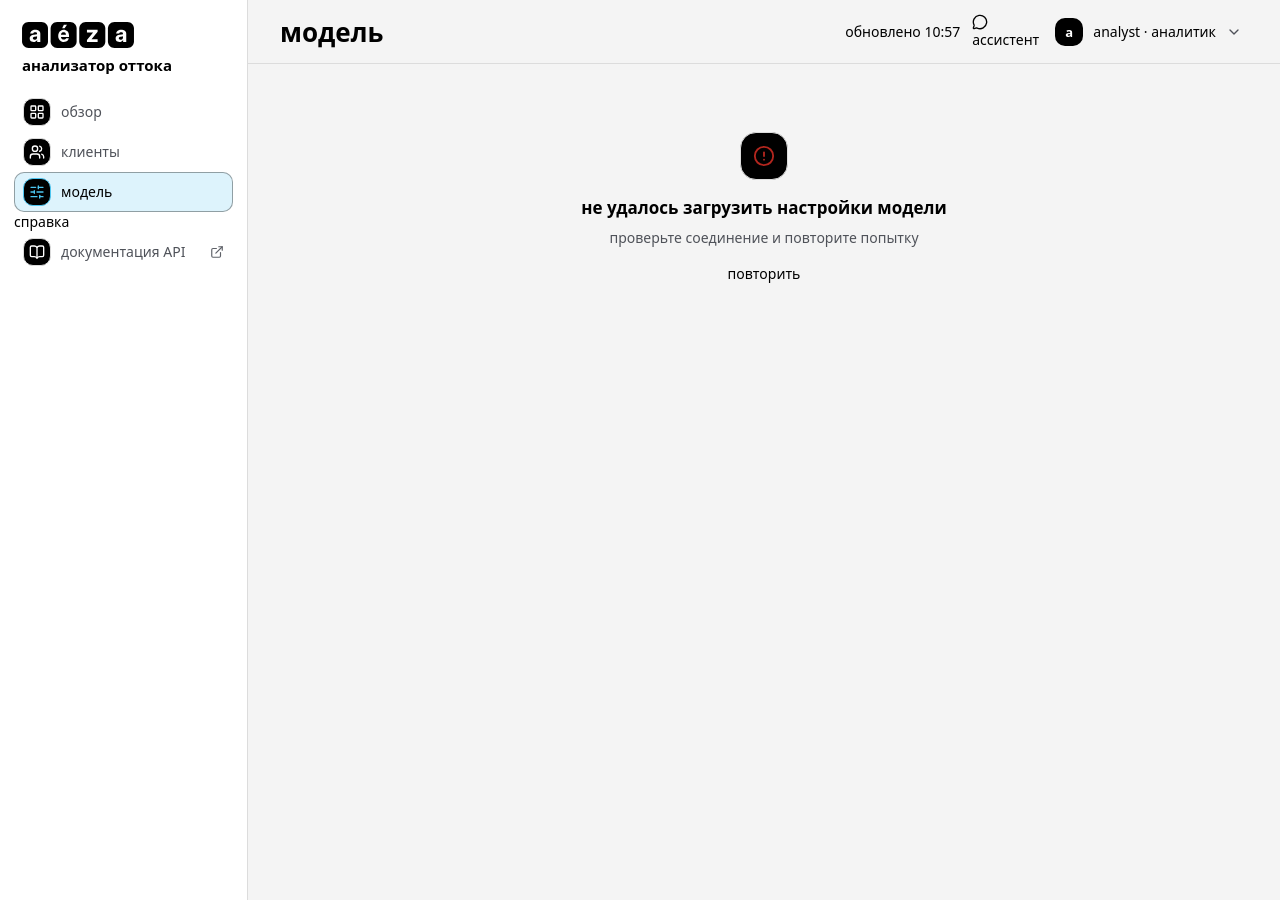
Test: assistant panel › explains rate limits and outages while the page keeps working
Step 1. Click the button "ассистент" → click(1006, 32), box [972,14,1039,50]
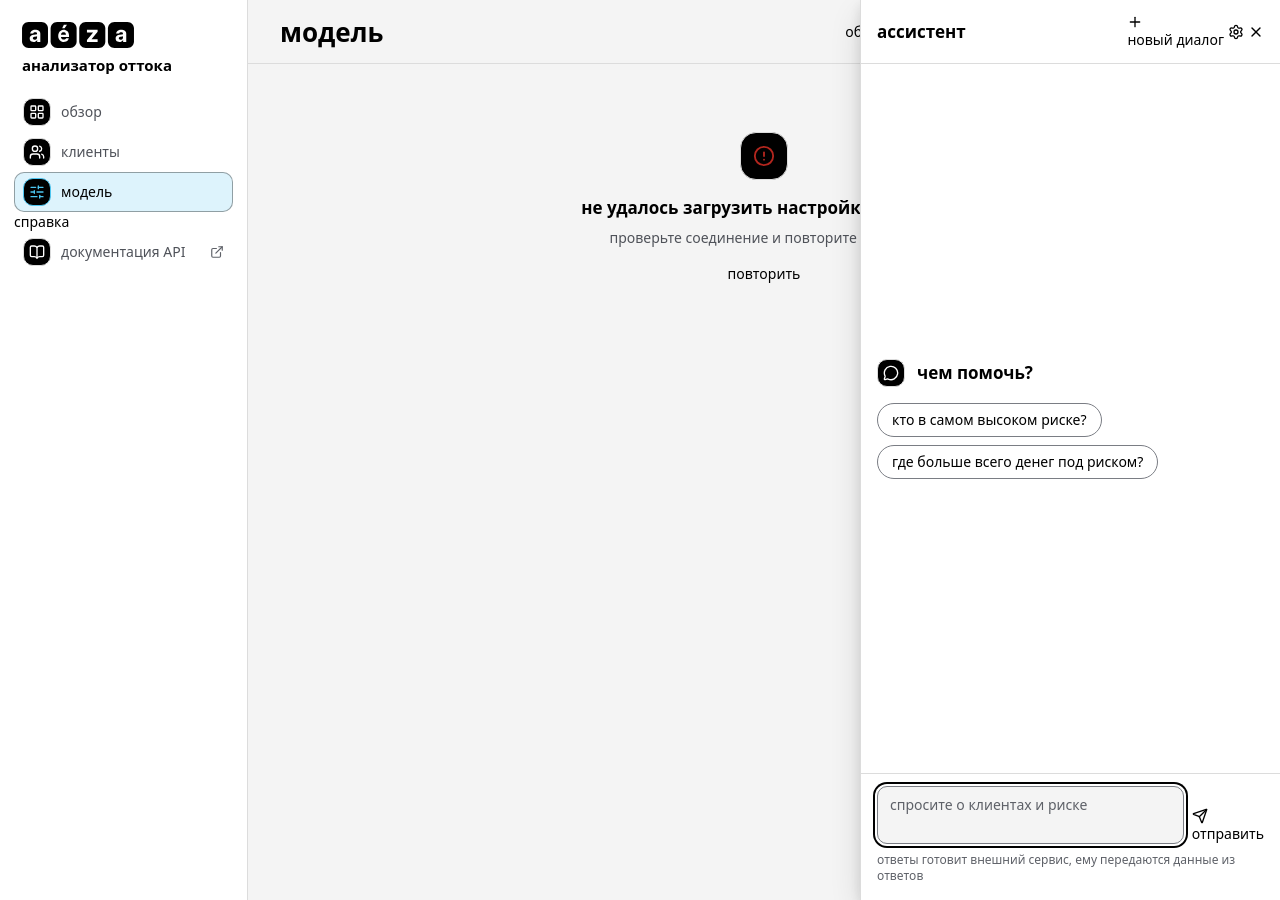
Step 2. Type "первый" into the text box named "вопрос ассистенту" → (1030, 815), box [877,786,1184,844]
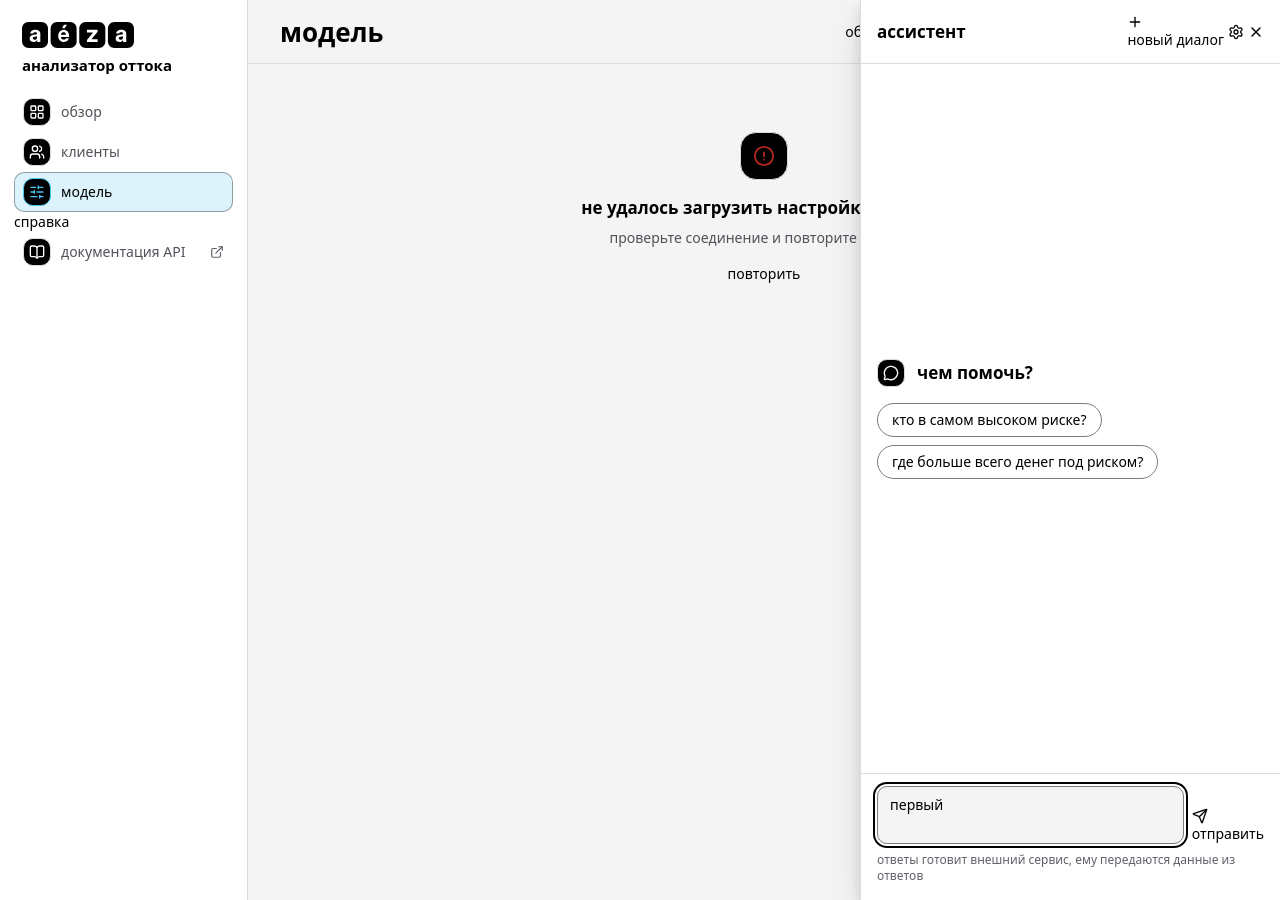
Step 3. Click the button "отправить" → click(1228, 826), box [1192,808,1264,844]
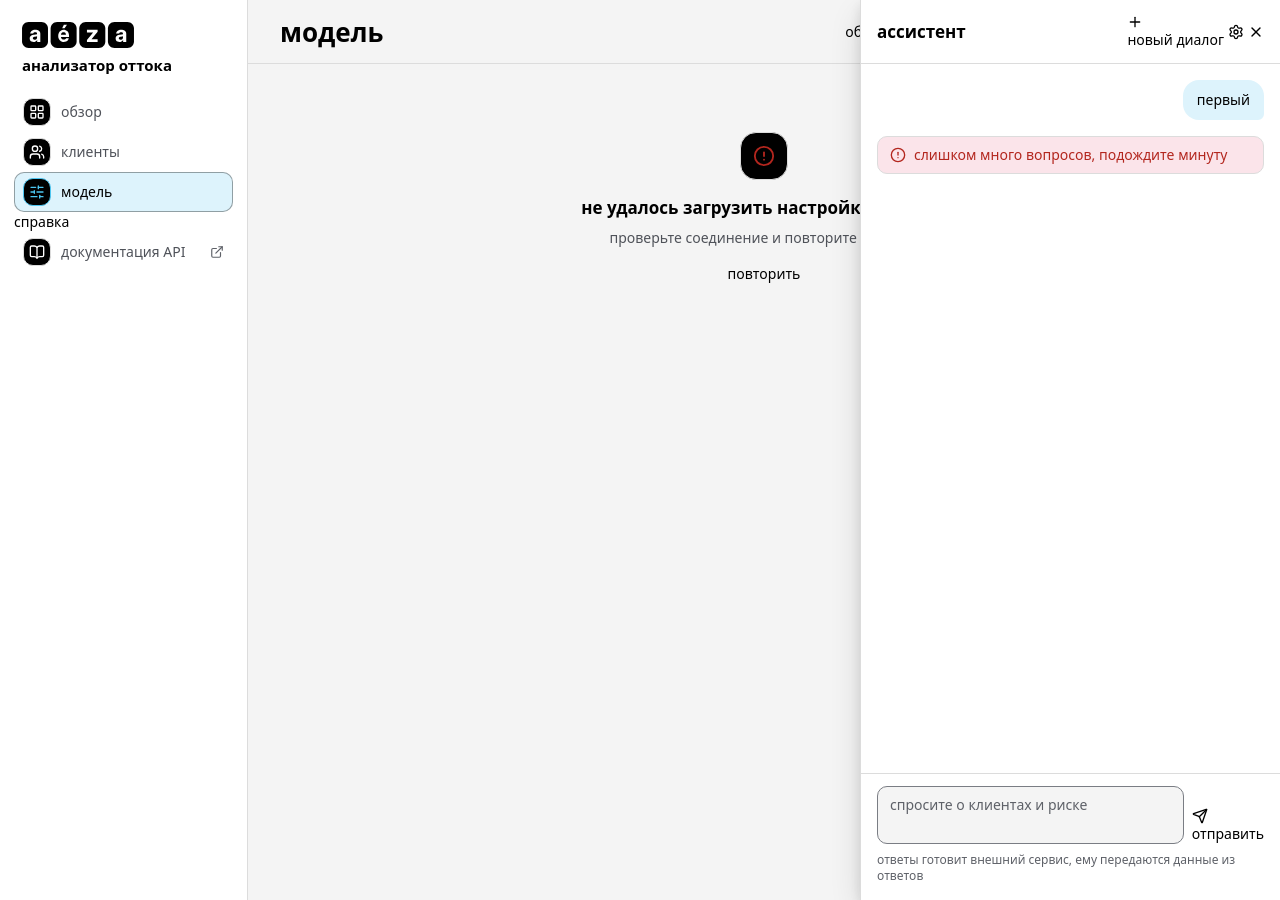
Result: the text "слишком много вопросов, подождите минуту" is shown at [877,136,1264,174]
Step 4. Type "второй" into the text box named "вопрос ассистенту" → (1030, 815), box [877,786,1184,844]
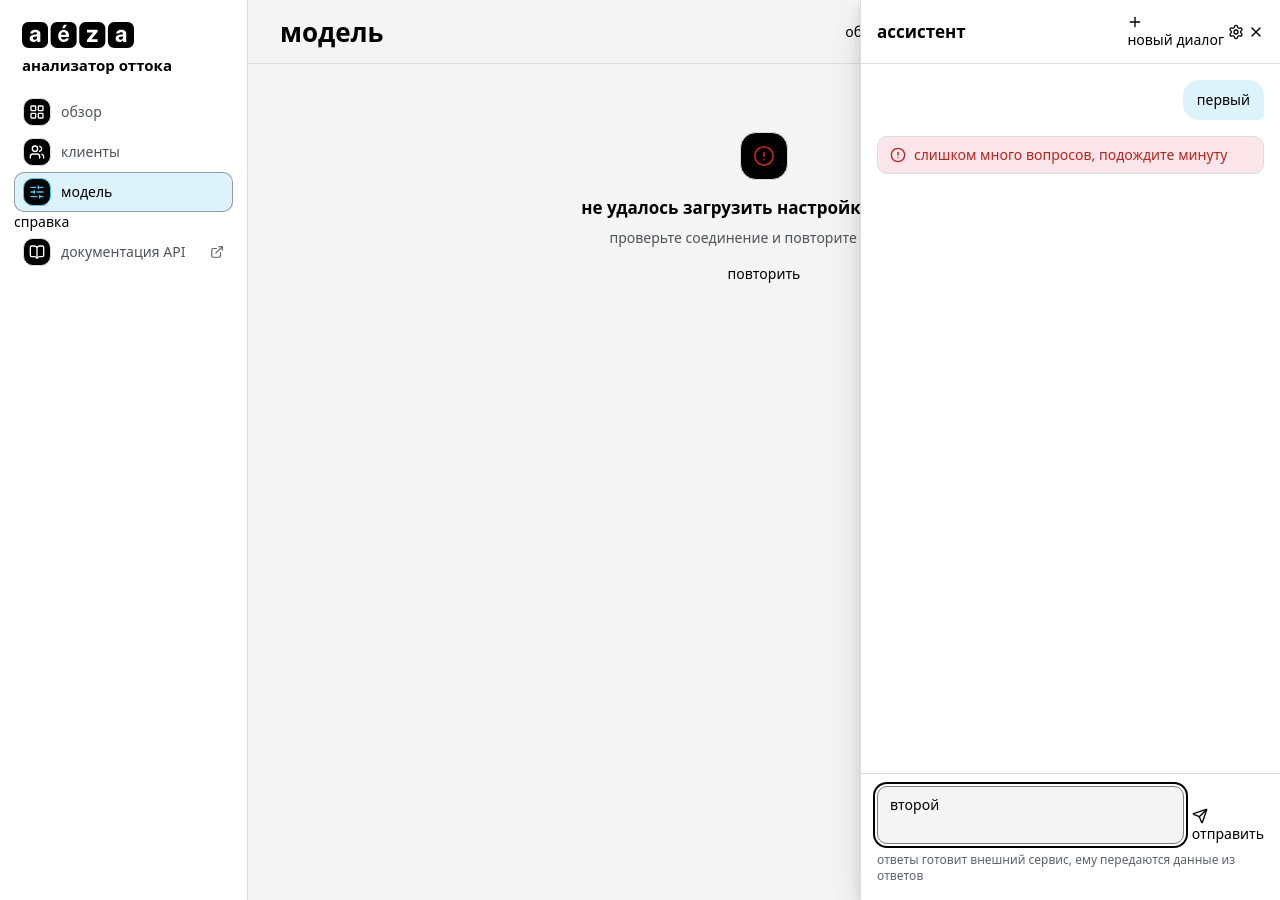
Step 5. Click the button "отправить" → click(1228, 826), box [1192,808,1264,844]
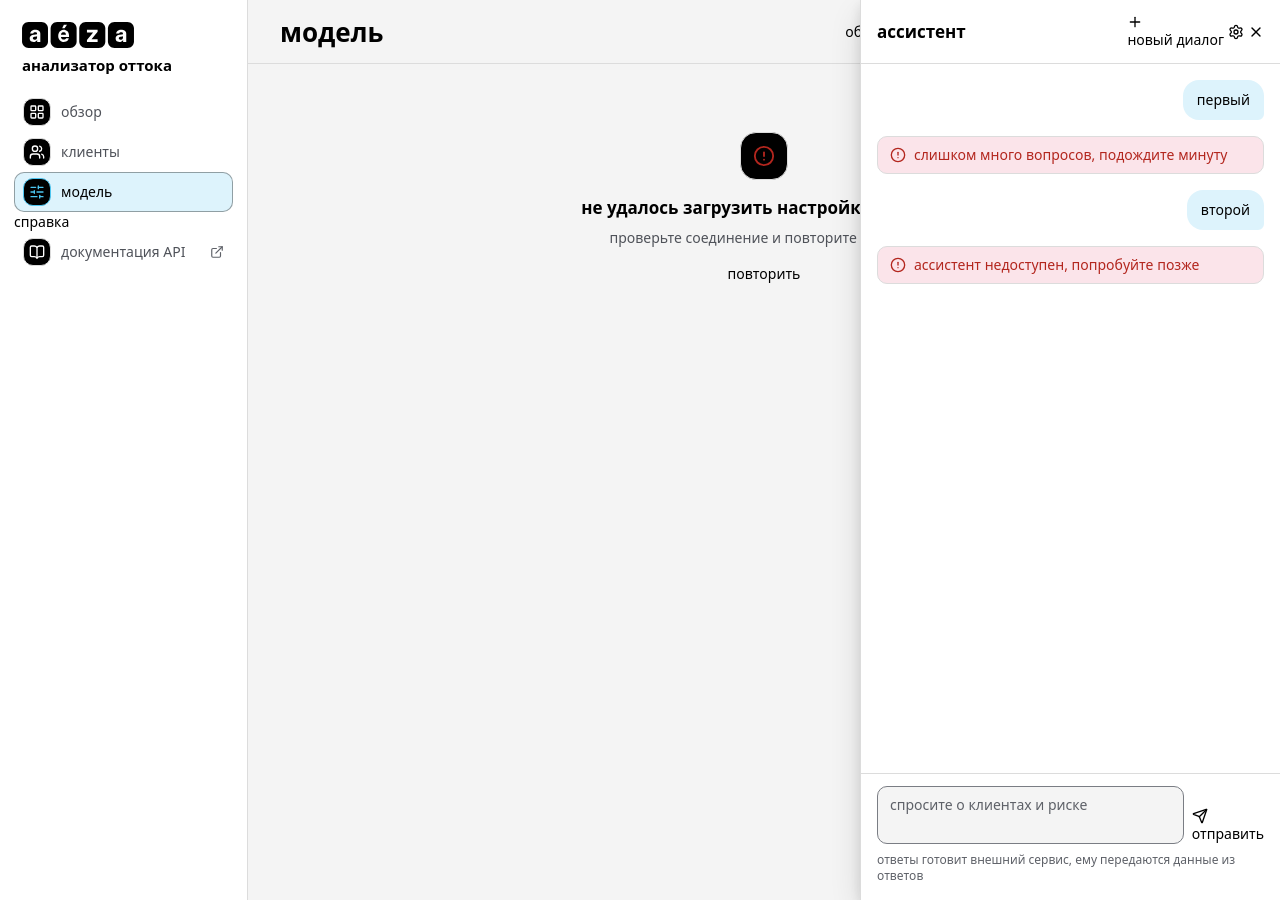
Expected: the heading "модель" is shown, [280,16,383,48]
Result: the text "ассистент недоступен, попробуйте позже" is shown at [877,246,1264,284]
